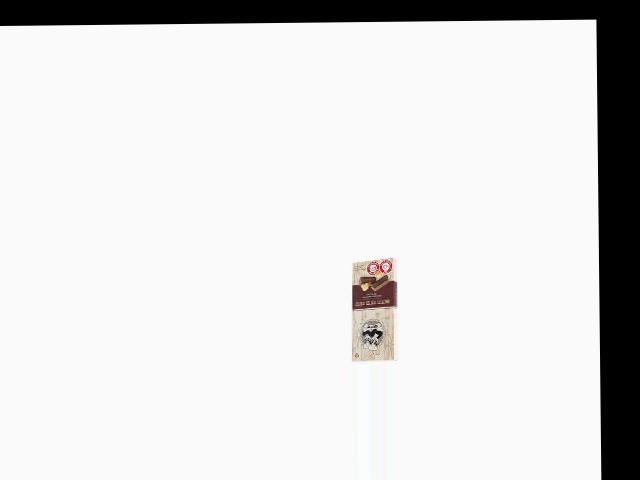chocolate: (349, 255, 406, 361)
